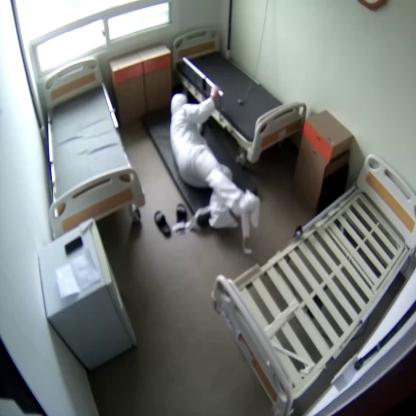Person: (170, 84, 258, 227)
